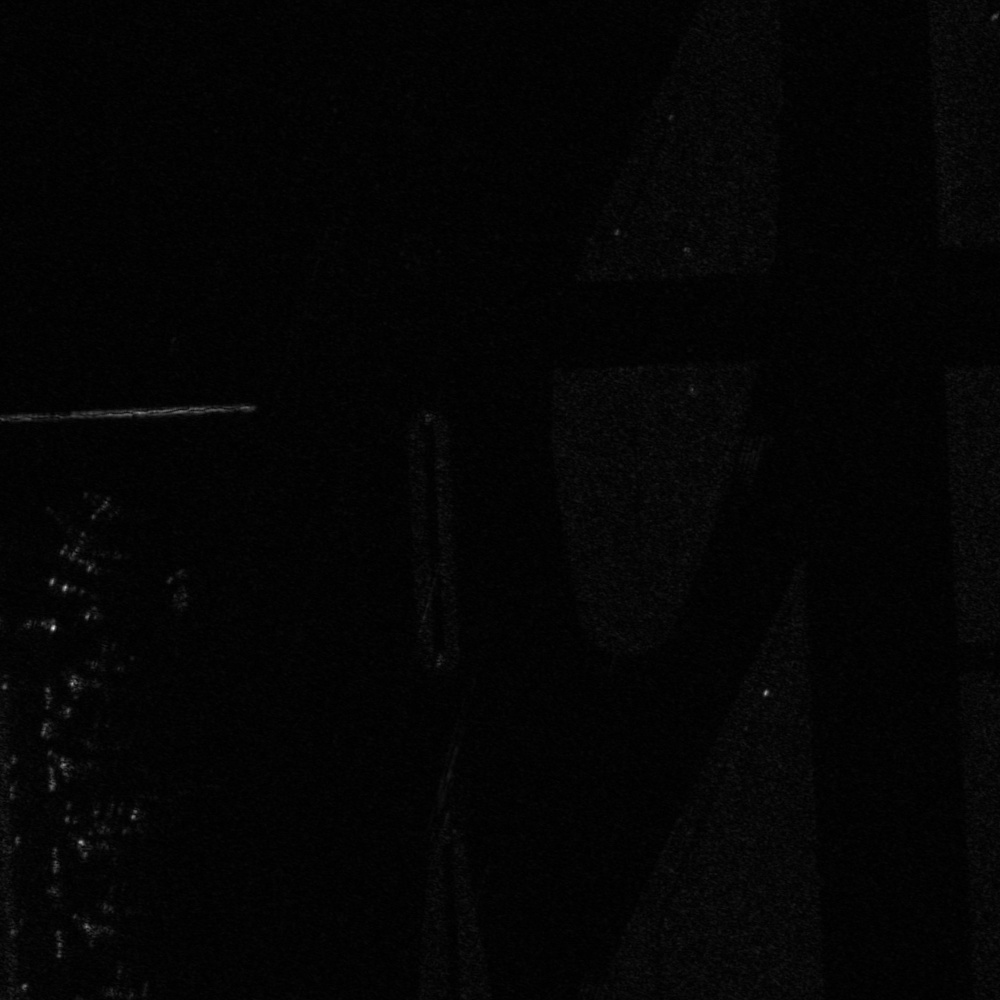A220: (77, 869, 154, 956), (73, 790, 151, 871)
A320/321: (34, 483, 139, 590)
